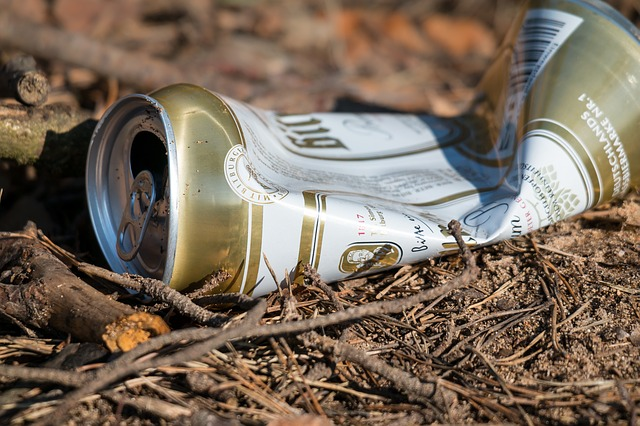can: (74, 0, 640, 311)
